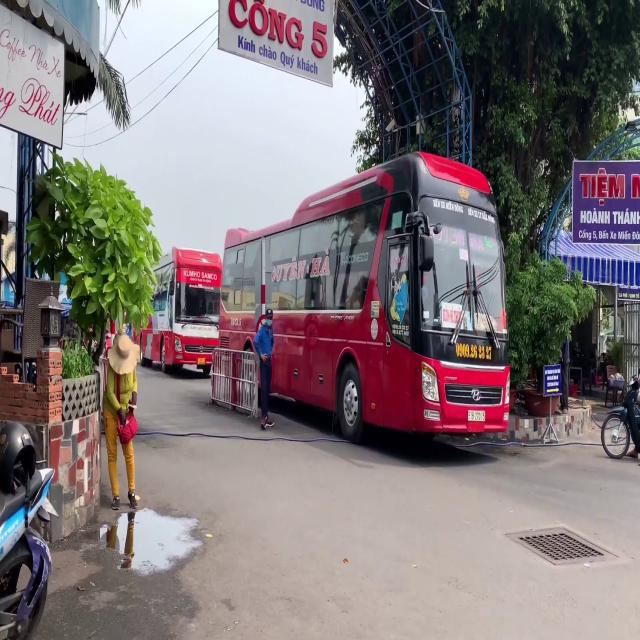bien_trang: (468, 408, 487, 424)
